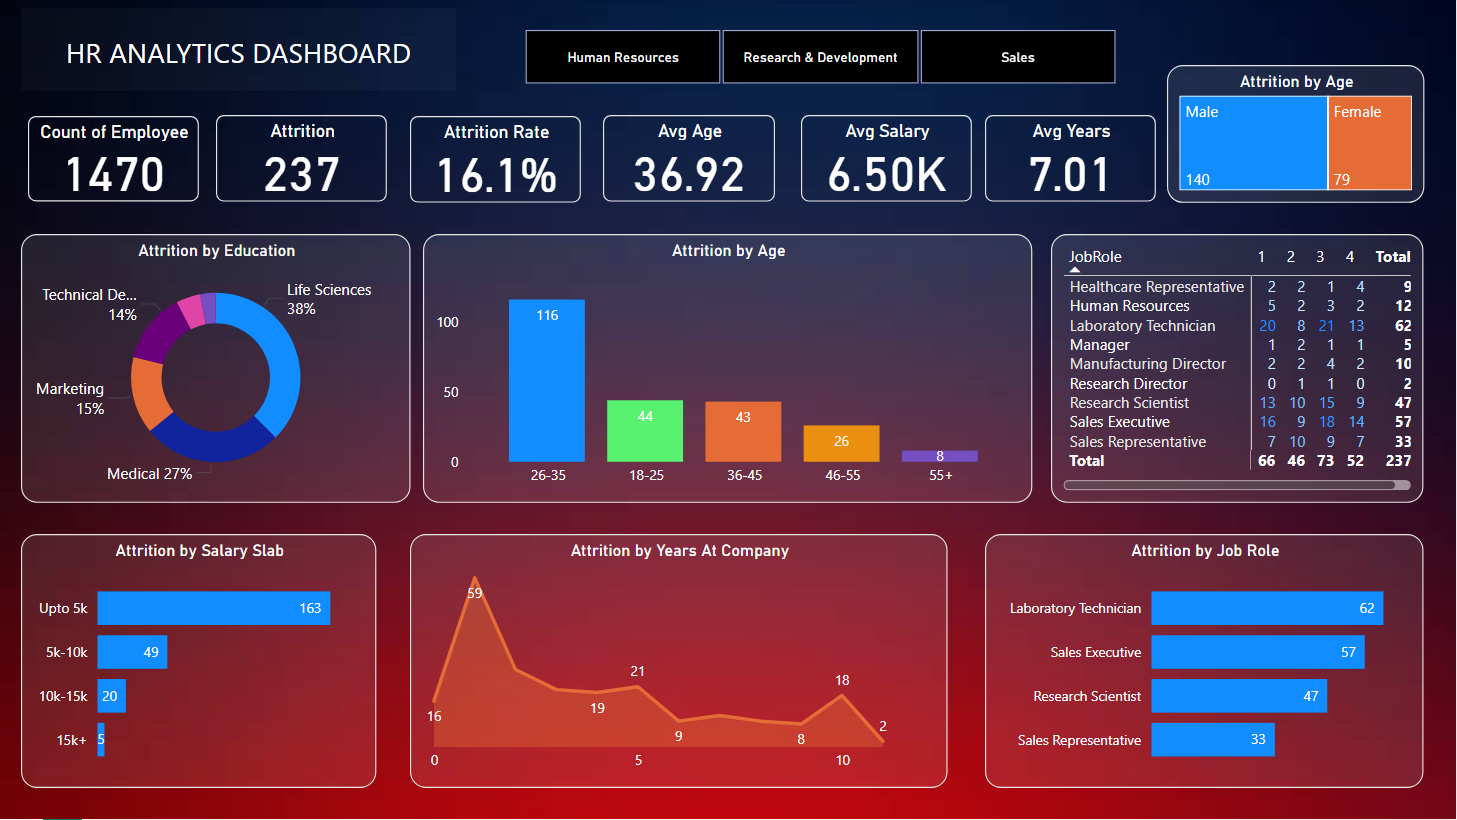

This screenshot's page, from the dashboard's own definition file:
{"tool":"powerbi","page":{"name":"Page 1","canvas":[1280,720],"ordinal":0},"visuals":[{"type":"card","title":"Count of Employee","fields":{"Values":["CountNonNull(HR_Analytics1.EmpID)"]},"box":[26,103,150,75],"z":0},{"type":"card","title":"Attrition","fields":{"Values":["Sum(HR_Analytics1.AttritionCount)"]},"box":[191,102,150,76],"z":1000},{"type":"card","title":"Attrition Rate","fields":{"Values":["HR_Analytics1.AttritionRate"]},"box":[362,103,150,76],"z":2000},{"type":"card","title":"Avg Age","fields":{"Values":["Avg(HR_Analytics1.Age)"]},"box":[531,102,151,76],"z":3000},{"type":"card","title":"Avg Salary","fields":{"Values":["Avg(HR_Analytics1.MonthlyIncome)"]},"box":[705,102,150,76],"z":4000},{"type":"card","title":"Avg Years","fields":{"Values":["Avg(HR_Analytics1.YearsAtCompany)"]},"box":[867,102,150,76],"z":5000},{"type":"donutChart","title":"Attrition by Education","fields":{"Category":["HR_Analytics1.EducationField"],"Y":["Sum(HR_Analytics1.AttritionCount)"]},"box":[20,206,342,236],"z":6000},{"type":"clusteredColumnChart","title":"Attrition by Age","fields":{"Category":["HR_Analytics1.AgeGroup"],"Y":["Sum(HR_Analytics1.AttritionCount)"]},"box":[373,206,535,236],"z":7000},{"type":"pivotTable","fields":{"Rows":["HR_Analytics1.JobRole"],"Columns":["HR_Analytics1.JobSatisfaction"],"Values":["Sum(HR_Analytics1.AttritionCount)"]},"box":[925,206,327,236],"z":8000},{"type":"barChart","title":"Attrition by Salary Slab","fields":{"Category":["HR_Analytics1.SalarySlab"],"Y":["Sum(HR_Analytics1.AttritionCount)"]},"box":[20,470,312,223],"z":9000},{"type":"barChart","title":"Attrition by Job Role","fields":{"Category":["HR_Analytics1.JobRole"],"Y":["Sum(HR_Analytics1.AttritionCount)"]},"box":[867,470,385,223],"z":10000},{"type":"areaChart","title":"Attrition by Years At Company","fields":{"Category":["HR_Analytics1.YearsAtCompany"],"Y":["Sum(HR_Analytics1.AttritionCount)"]},"box":[362,470,472,223],"z":11000},{"type":"treemap","title":"Attrition by Age","fields":{"Group":["HR_Analytics1.Gender"],"Values":["Sum(HR_Analytics1.AttritionCount)"]},"box":[1026,58,226,121],"z":12000},{"type":"slicer","fields":{"Values":["HR_Analytics1.Department"]},"box":[437,20,568,61],"z":13000},{"type":"textbox","box":[20,8,382,73],"z":14000}]}

Visuals, with their boxes in screenshot pixels (x1, y1, x2, y2), scaled from the page's 1280x720 canvas onto the 1457x820 screenshot:
"Count of Employee" card: 30 117 200 203
"Attrition" card: 217 116 388 203
"Attrition Rate" card: 412 117 583 204
"Avg Age" card: 604 116 776 203
"Avg Salary" card: 802 116 973 203
"Avg Years" card: 987 116 1158 203
"Attrition by Education" donutChart: 23 235 412 503
"Attrition by Age" clusteredColumnChart: 425 235 1034 503
pivotTable - HR_Analytics1.JobRole x HR_Analytics1.JobSatisfaction: 1053 235 1425 503
"Attrition by Salary Slab" barChart: 23 535 378 789
"Attrition by Job Role" barChart: 987 535 1425 789
"Attrition by Years At Company" areaChart: 412 535 949 789
"Attrition by Age" treemap: 1168 66 1425 204
slicer - HR_Analytics1.Department: 497 23 1144 92
textbox: 23 9 458 92
